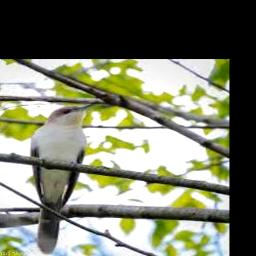Cuckoo: (32, 104, 96, 254)
